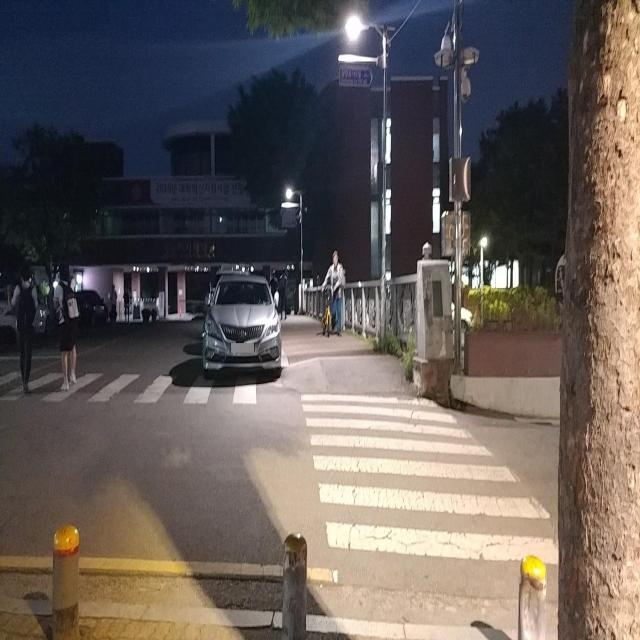횡단보도: (300, 392, 560, 569), (0, 364, 277, 406)
